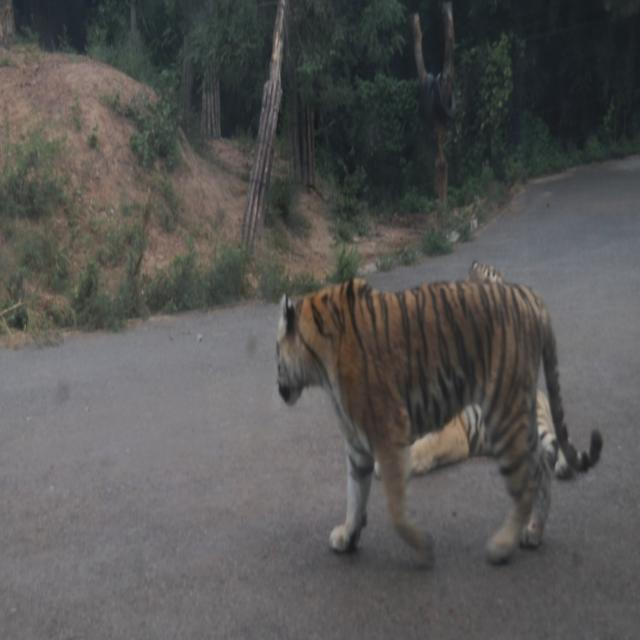Tiger: (259, 223, 607, 586), (413, 256, 572, 477)
